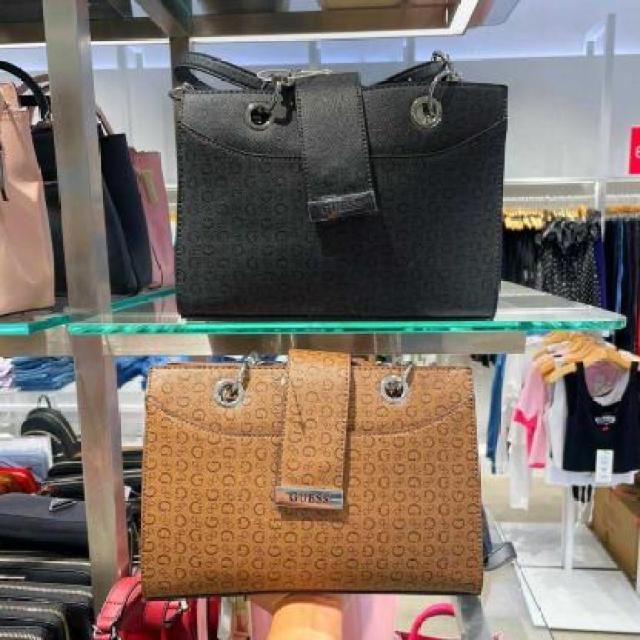Bag: (106, 31, 640, 351), (82, 337, 560, 621)
